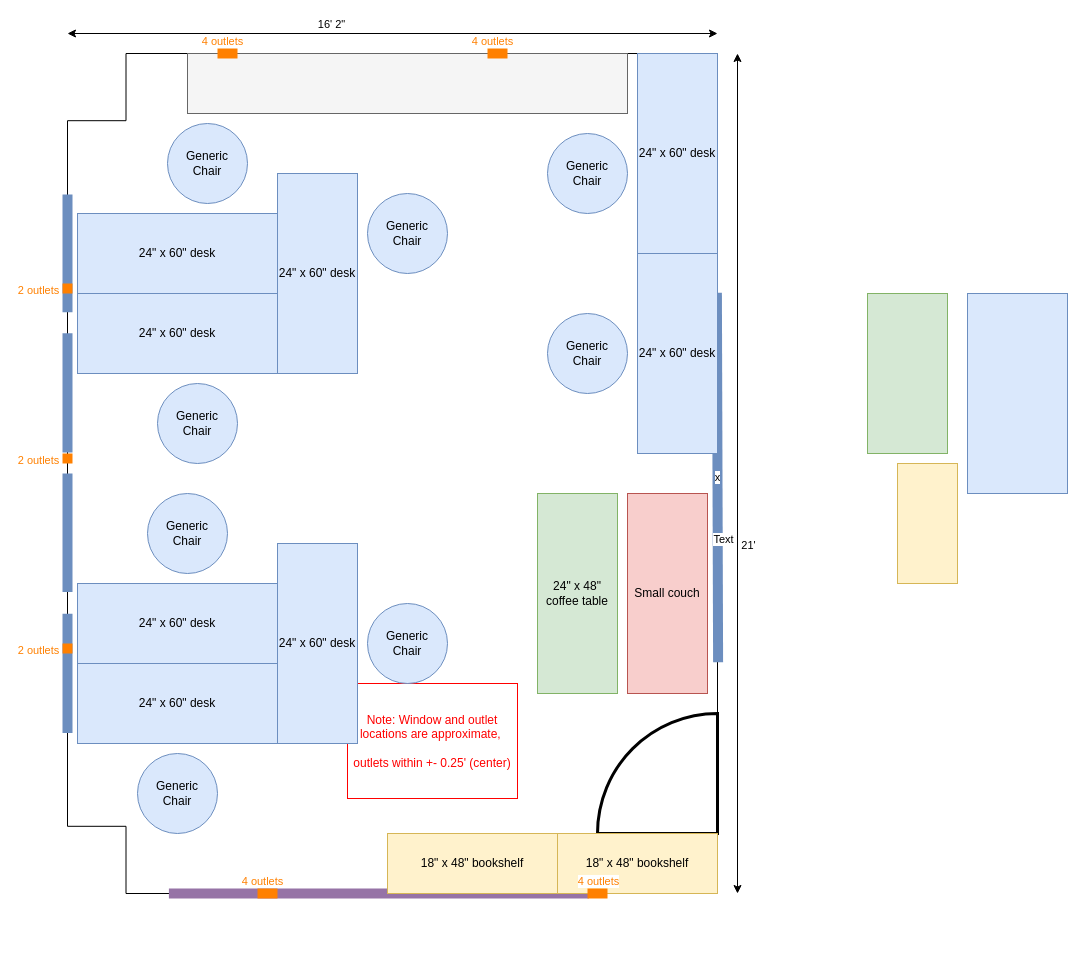
Image size: 1085x972. Some labels were removed from this diagram. Here are the shapes that lost their labels. From the top down, the box of each, then its label:
(186, 52, 628, 114): Wall shelf
(866, 292, 948, 454): 24" x 48" desk
(966, 292, 1068, 494): 30" x 60" desk
(896, 462, 958, 584): 18" x 36" bookshelf
